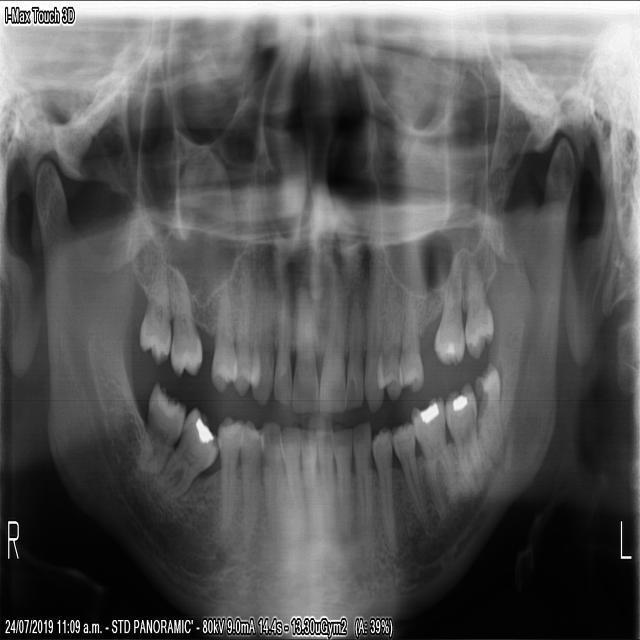LCD: (349, 417, 374, 542)
LCU: (362, 276, 386, 416)
LID: (327, 420, 354, 532), (313, 418, 335, 536)
LIU: (317, 273, 347, 424), (343, 283, 363, 412)
LMD: (405, 385, 460, 528), (440, 374, 487, 500), (467, 355, 507, 462)
LMU: (429, 236, 466, 373), (462, 239, 494, 363)
LPMD: (389, 411, 430, 533), (368, 420, 399, 557)
LPMU: (373, 268, 404, 406), (395, 279, 424, 396)
RCD: (258, 417, 285, 546)
RCU: (247, 250, 273, 411)
RID: (276, 418, 306, 538), (296, 421, 318, 533)
RIU: (288, 274, 318, 417), (270, 267, 293, 410)
RMD: (148, 401, 219, 509), (131, 380, 186, 483)
RMU: (166, 262, 202, 382), (136, 261, 172, 369)
RPMD: (237, 415, 266, 560), (214, 406, 245, 539)
RPMU: (230, 253, 261, 401), (206, 269, 237, 398)
